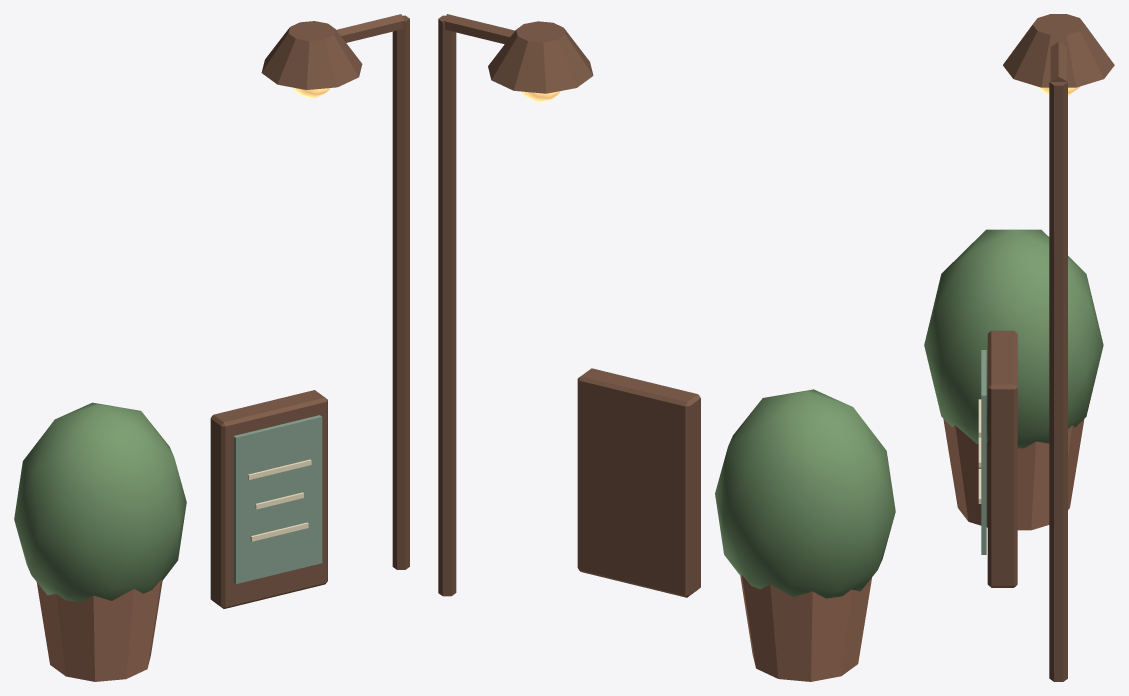
The model's file is tpe_street_details.glb.
The picture shows the model from 3 angles, left to right: view 1: azimuth 30°, elevation 25°; view 2: azimuth 150°, elevation 25°; view 3: azimuth 270°, elevation 25°; orthographic projection. The views are drawn at different scales.
Parts seen in each view (by area): view 1: tpe_street_details__foliage, tpe_street_details__dark-walnut, tpe_street_details__sage-plaster, tpe_street_details__terra-pot, tpe_street_details__ivory-trim; view 2: tpe_street_details__dark-walnut, tpe_street_details__foliage, tpe_street_details__terra-pot; view 3: tpe_street_details__dark-walnut, tpe_street_details__foliage, tpe_street_details__terra-pot, tpe_street_details__sage-plaster, tpe_street_details__ivory-trim.
Boxes of the visible parts, x1,y1,x2,y2 form: tpe_street_details__foliage: (14, 402, 186, 602); tpe_street_details__dark-walnut: (210, 14, 409, 608); tpe_street_details__sage-plaster: (233, 415, 322, 583); tpe_street_details__terra-pot: (36, 579, 162, 681); tpe_street_details__ivory-trim: (248, 459, 311, 541); tpe_street_details__dark-walnut: (438, 14, 700, 597); tpe_street_details__foliage: (715, 389, 895, 598); tpe_street_details__terra-pot: (740, 575, 871, 681); tpe_street_details__dark-walnut: (987, 14, 1114, 681); tpe_street_details__foliage: (924, 229, 1103, 448); tpe_street_details__terra-pot: (943, 419, 1084, 530); tpe_street_details__sage-plaster: (981, 350, 986, 554); tpe_street_details__ivory-trim: (978, 399, 981, 503).
Size of the model in its own units: 25.79 by 34.23 by 9.75.
